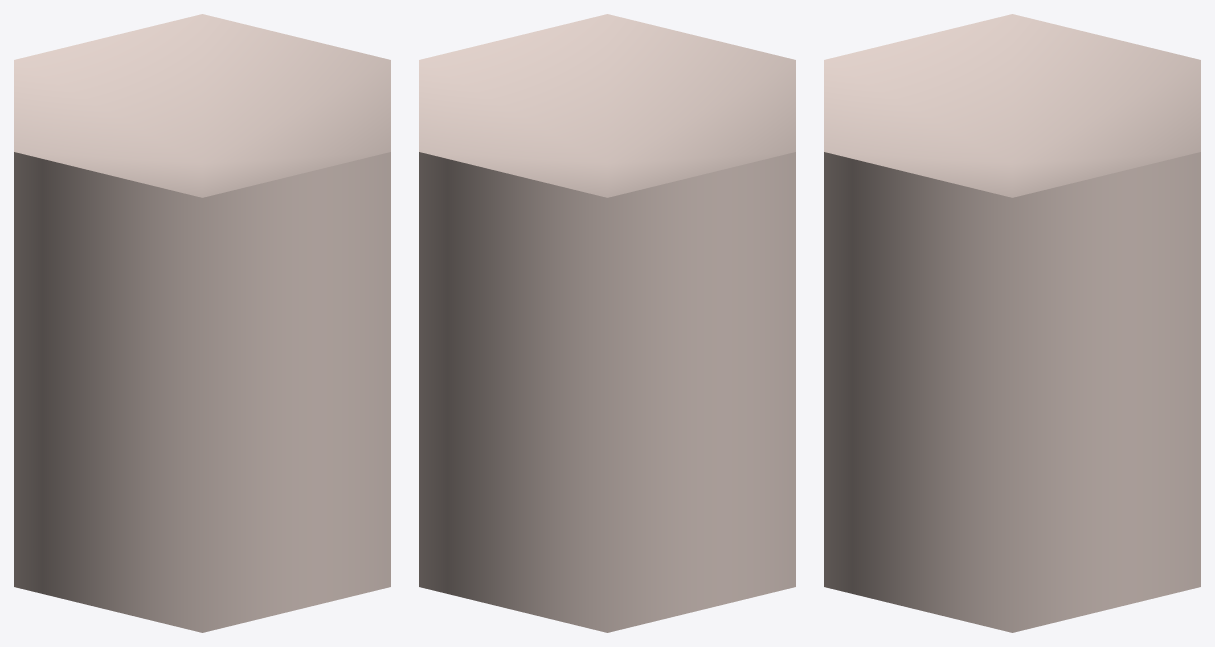
File: Candle_f.fbx
3 views of the same model, side by side, from view 1: azimuth 30°, elevation 25°; view 2: azimuth 150°, elevation 25°; view 3: azimuth 270°, elevation 25° (orthographic).
Visible parts, largest first — view 1: candle2; view 2: candle2; view 3: candle2.
Part boxes in pixels (x1,y1,x2,y2): candle2: (14,14,390,632); candle2: (419,14,795,632); candle2: (824,14,1200,632).
Size of the model in its own units: 0.0267 by 0.0295 by 0.0231.
